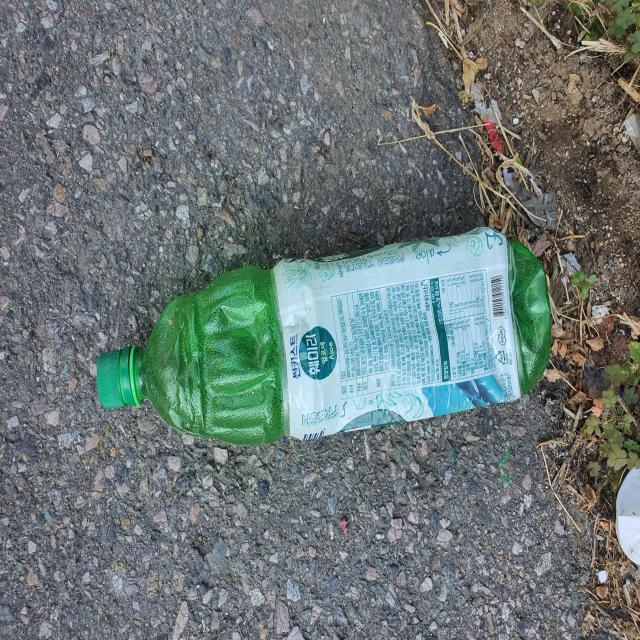plastic: (96, 227, 552, 445)
